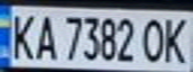2: (115, 15, 142, 63)
3: (78, 12, 100, 62)
7: (60, 11, 84, 61)
8: (96, 14, 121, 62)
A: (30, 10, 60, 61)
K: (3, 9, 39, 61), (160, 13, 193, 64)
O: (139, 15, 169, 64)
